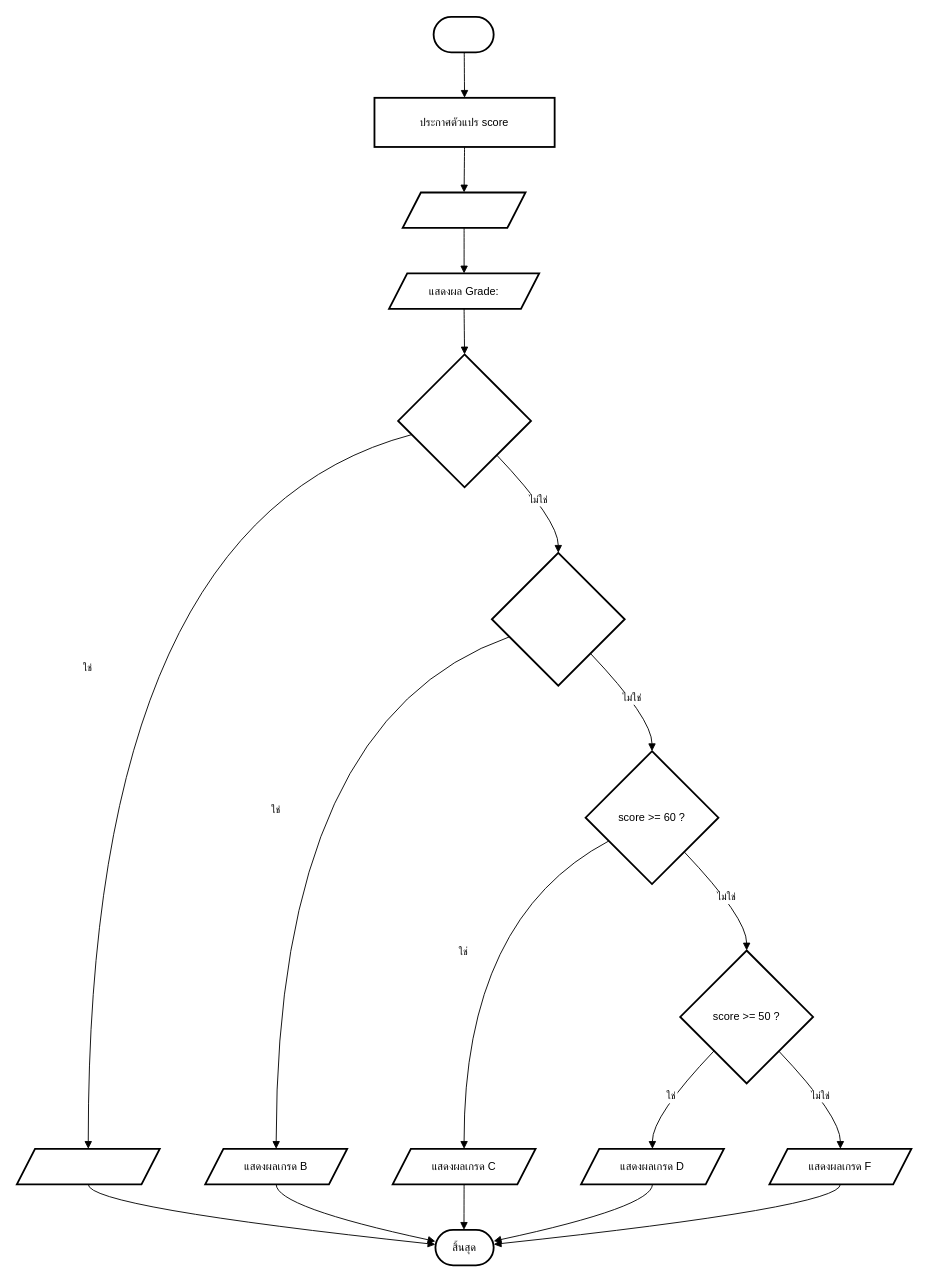
Some shapes in this 927 by 1281 pixel diagram are drawn without their labels. Each missing label, with the centre of its shape:
score >= 70 ?: the point at 557,618
score >= 80 ?: the point at 464,420
รับค่าคะแนน: the point at 463,209
เริ่มต้น: the point at 463,34
แสดงผลเกรด A: the point at 87,1166
